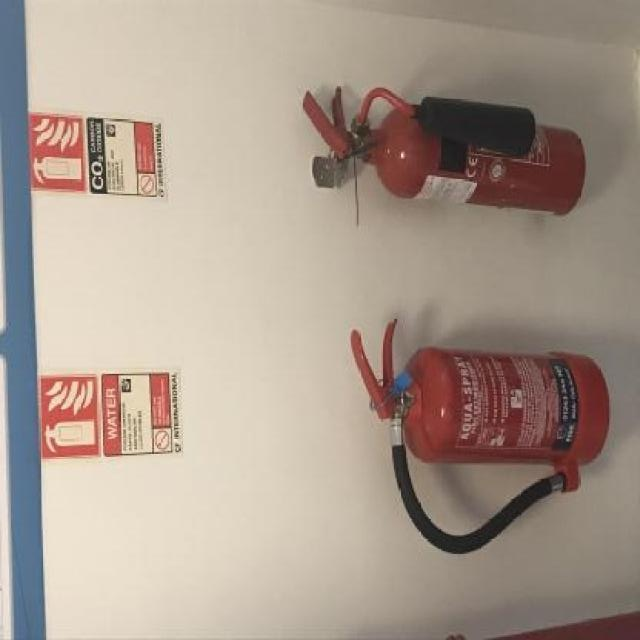fire extinguisher: (350, 318, 610, 556), (301, 82, 584, 221)
